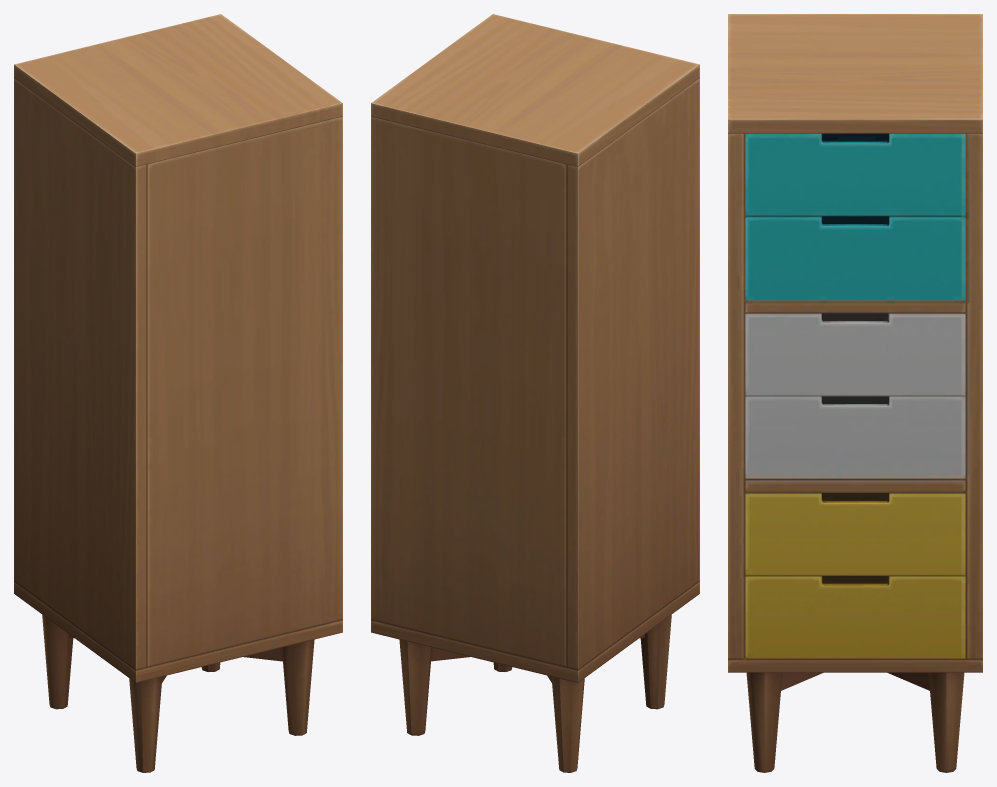
Rendered from Power塔式梳妆台.glb.
3 views of the same model, side by side, from view 1: azimuth 30°, elevation 25°; view 2: azimuth 150°, elevation 25°; view 3: azimuth 270°, elevation 25° (orthographic). The views are drawn at different scales.
Parts seen in each view (by area): view 1: TinyLiving_PowerTowerDresser_24; view 2: TinyLiving_PowerTowerDresser_24; view 3: TinyLiving_PowerTowerDresser_24.
Boxes of the visible parts, x1,y1,x2,y2 form: TinyLiving_PowerTowerDresser_24: (14, 14, 342, 772); TinyLiving_PowerTowerDresser_24: (371, 14, 699, 772); TinyLiving_PowerTowerDresser_24: (728, 14, 982, 772).
Size of the model in its own units: 0.5161 by 1.51 by 0.5265.
1 material, 1 textured.
